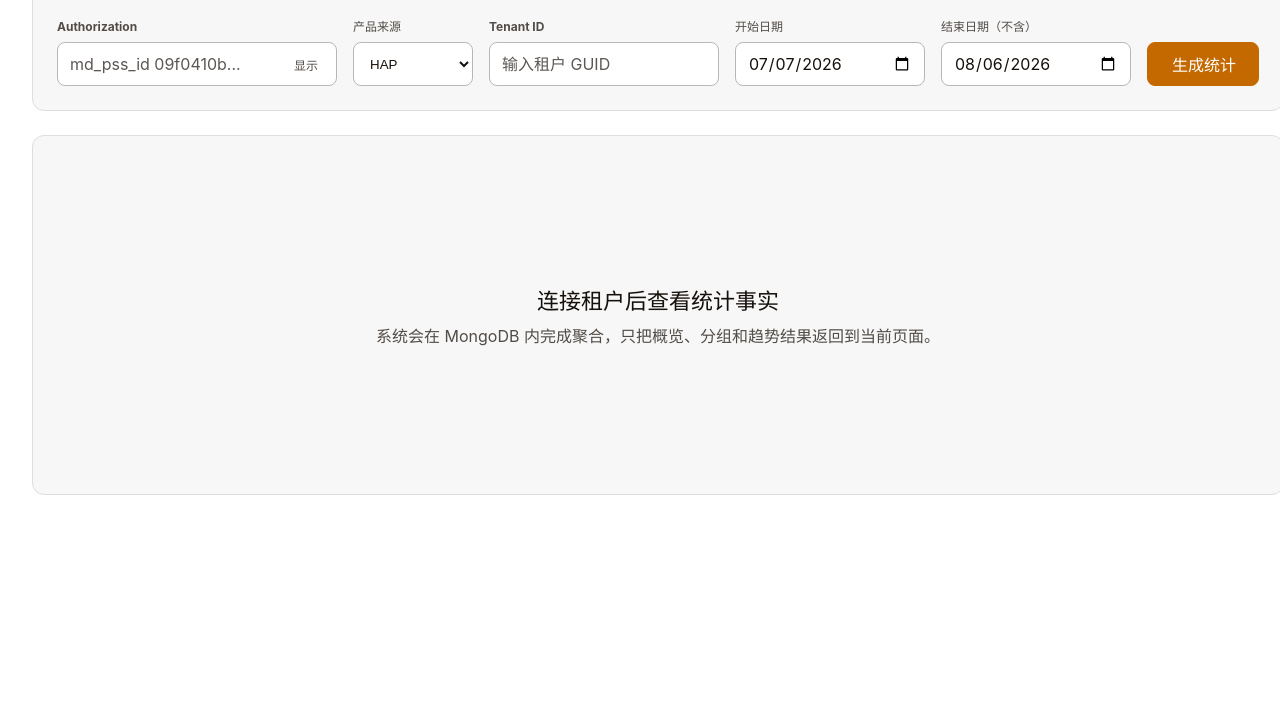
Test: credit point statistics page › loads overview and product-aware aggregate reports
Type "md_pss_id session-token" into the password field labelled "Authorization" at (197, 64), box 57,42 -> 337,86
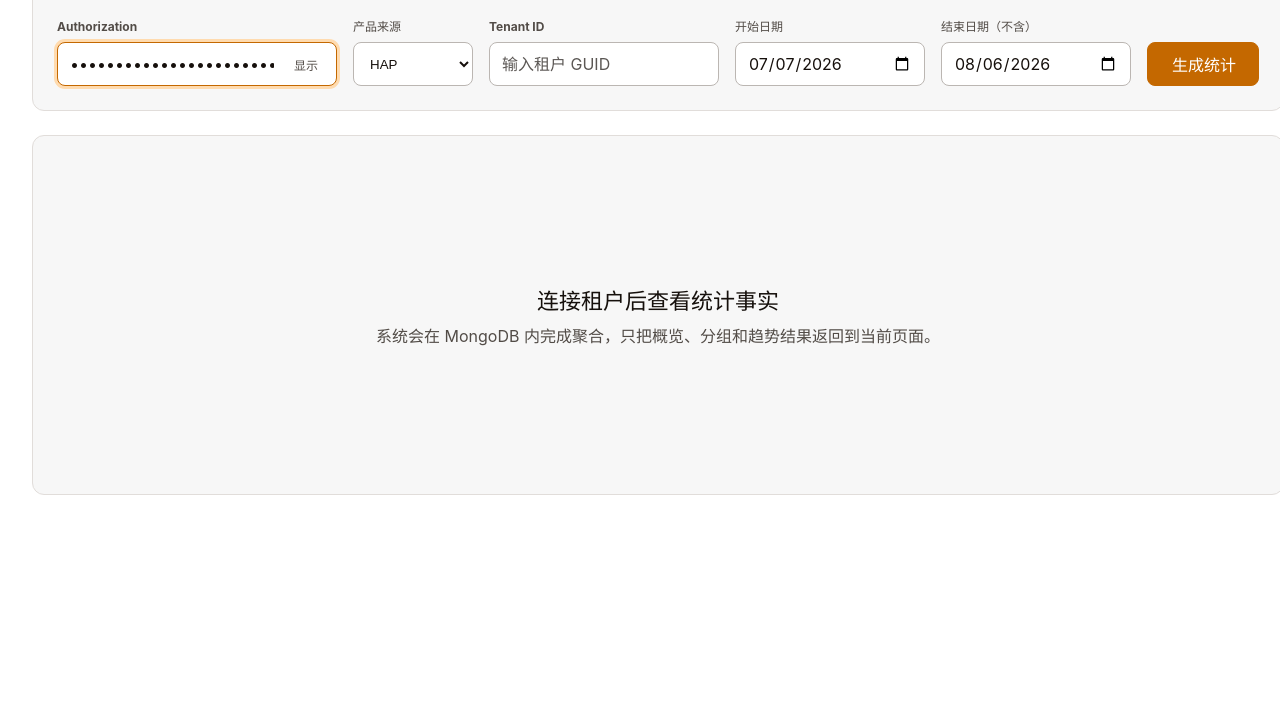
Type "tenant-1" into the field labelled "Tenant ID" at (604, 64), box 489,42 -> 719,86
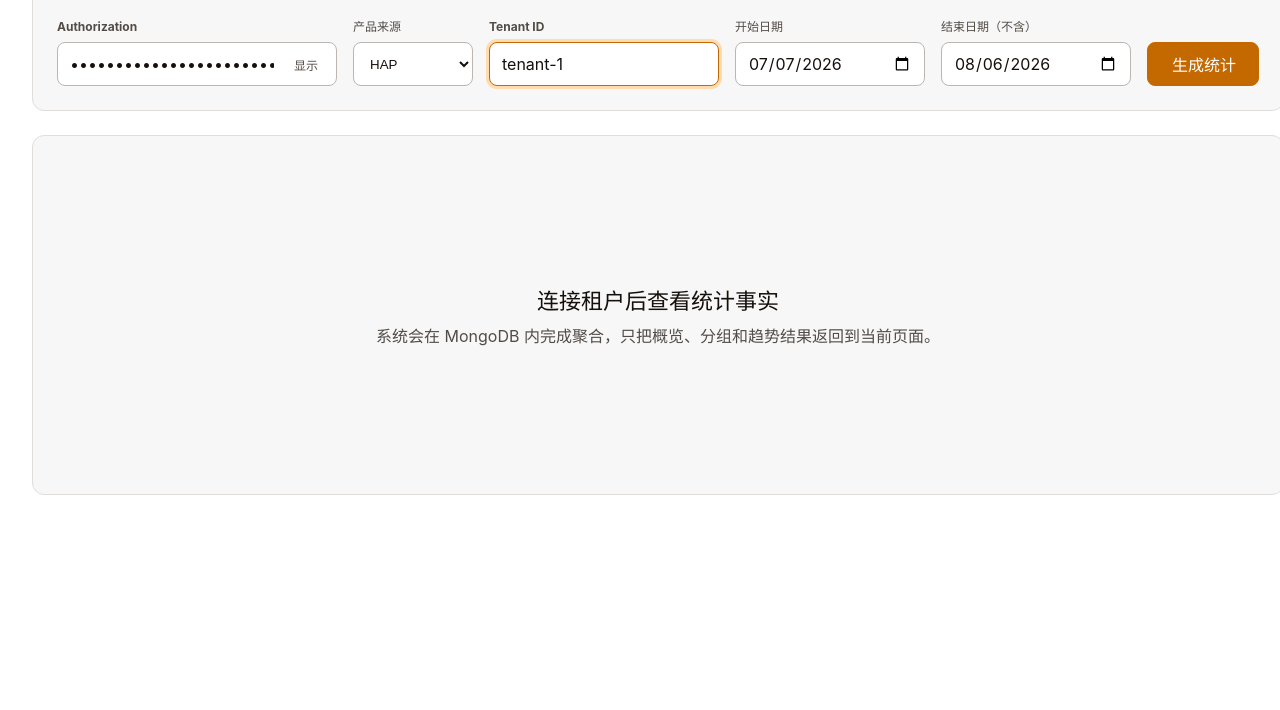
Click the button "生成统计" at (1203, 64), box 1147,42 -> 1259,86
(page scrolled)
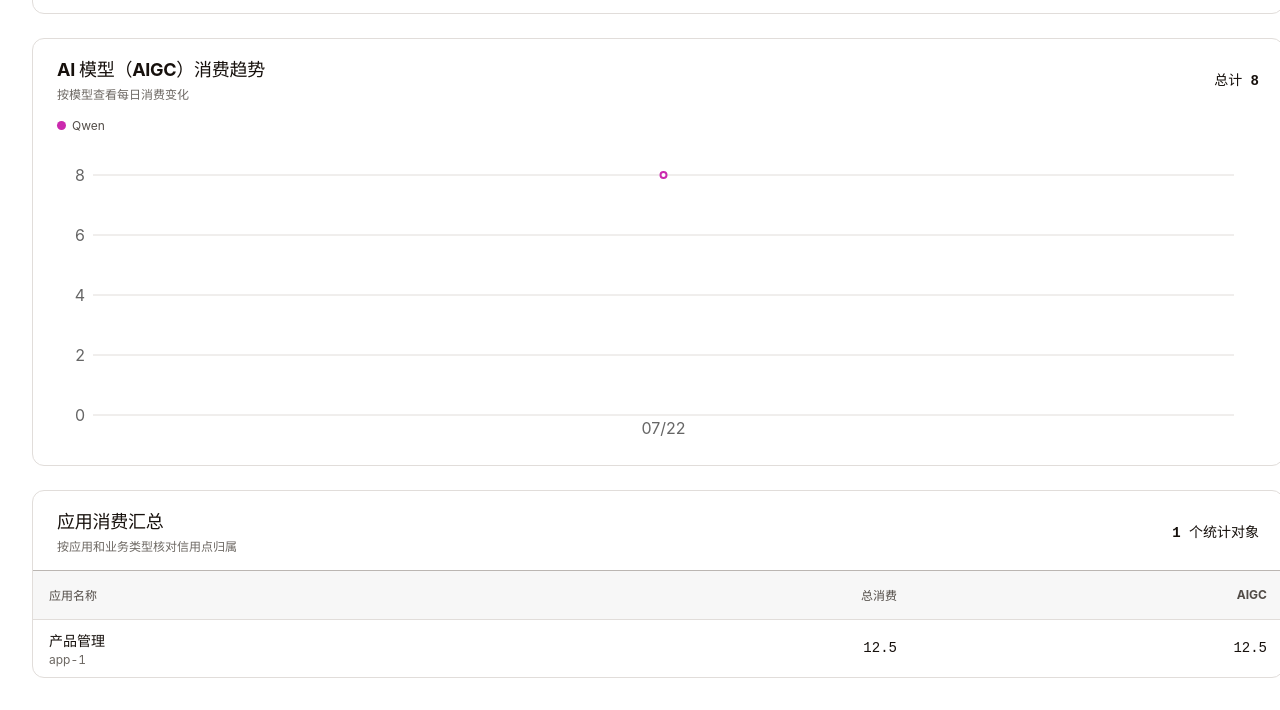
Expected: the text "Qwen" is shown, 57,118 -> 105,133
Expected: the text "产品管理" is shown, 49,632 -> 105,649
Expected: the text "app-1" is shown, 49,652 -> 86,667
